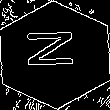N_E: (26, 34, 84, 76)
